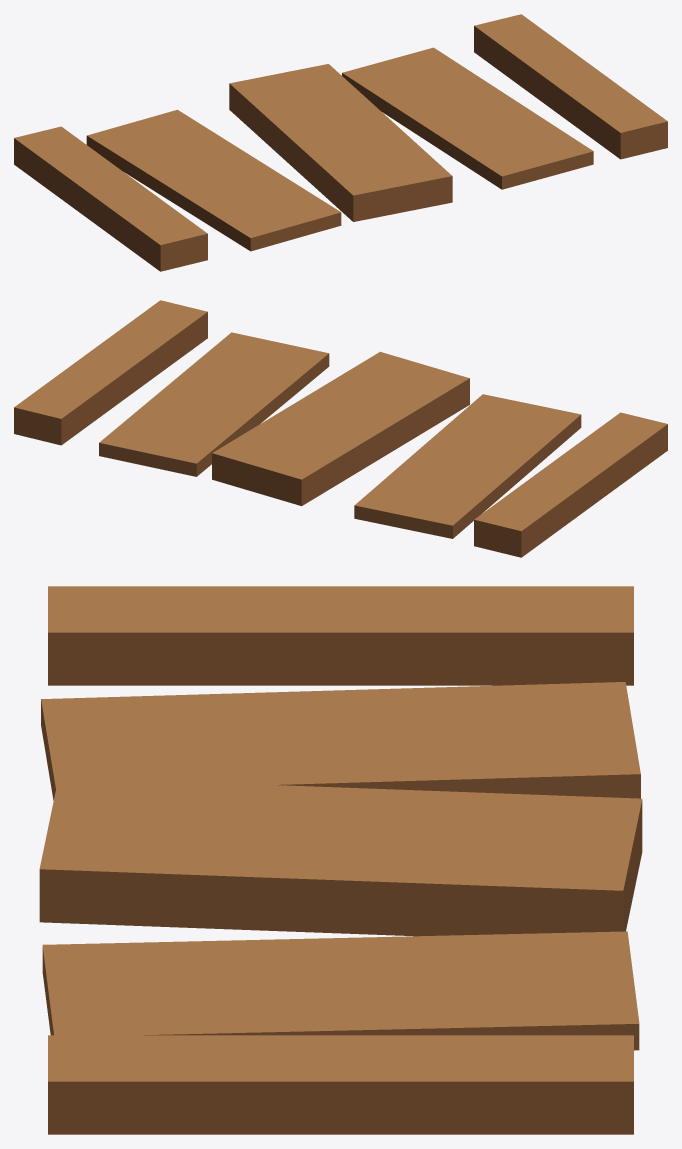
File: path_wood.glb
3 renders of one model, top to bottom at view 1: azimuth 30°, elevation 25°; view 2: azimuth 150°, elevation 25°; view 3: azimuth 270°, elevation 25°, orthographic. The views are drawn at different scales.
Visible parts, largest first — view 1: path_wood; view 2: path_wood; view 3: path_wood.
Boxes of the visible parts, x1,y1,x2,y2 form: path_wood: (14,14,667,271); path_wood: (14,300,667,557); path_wood: (39,586,642,1134).
Size of the model in its own units: 1.4 by 0.07 by 0.7201.
